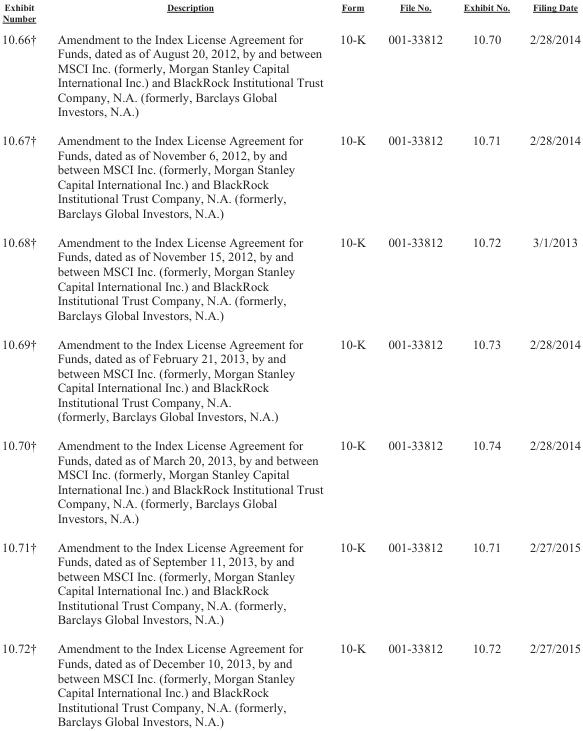table: (1, 1, 580, 727)
table column: (46, 1, 330, 727), (376, 1, 452, 727), (452, 1, 519, 727), (519, 1, 580, 727), (330, 1, 376, 727), (1, 1, 46, 727)
table column header: (1, 1, 580, 27)
table row: (1, 125, 580, 227), (1, 328, 580, 430), (1, 430, 580, 532), (1, 227, 580, 328), (1, 532, 580, 633), (1, 27, 580, 125), (1, 633, 580, 727), (1, 1, 580, 27)
